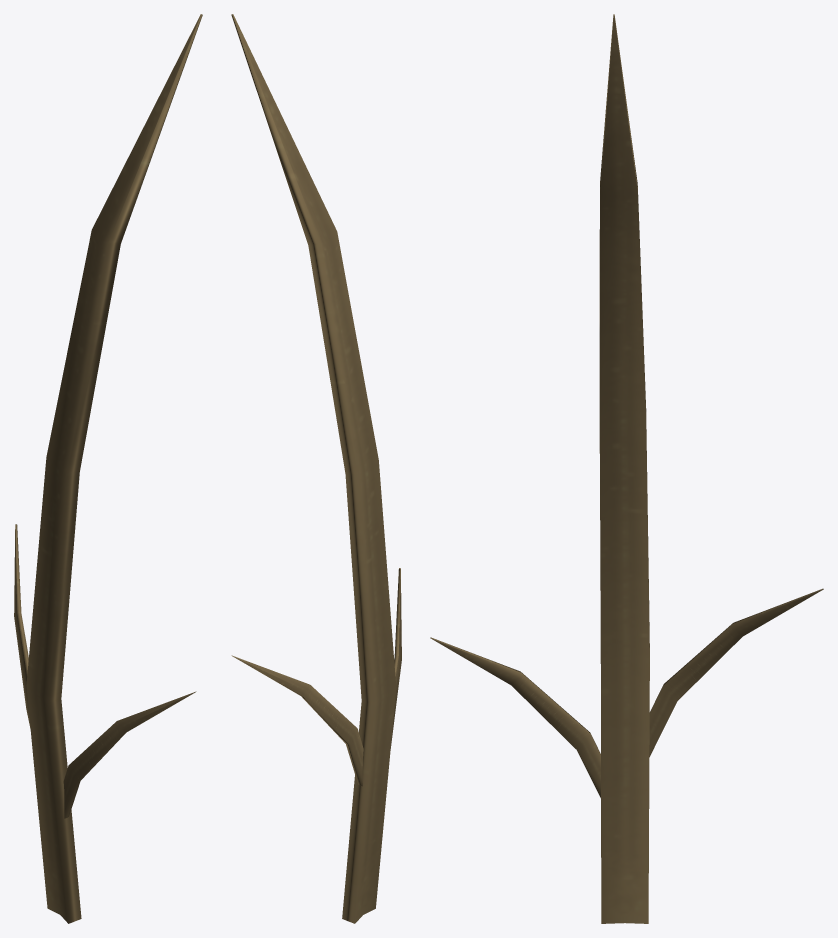
File: SM_Plant_9.fbx
The picture shows the model from 3 angles, left to right: view 1: azimuth 30°, elevation 25°; view 2: azimuth 150°, elevation 25°; view 3: azimuth 270°, elevation 25°; orthographic projection. The views are drawn at different scales.
Parts seen in each view (by area): view 1: SM_Plant_9_LOD0; view 2: SM_Plant_9_LOD0; view 3: SM_Plant_9_LOD0.
Part boxes in pixels (x1,y1,x2,y2): SM_Plant_9_LOD0: (14,14,202,923); SM_Plant_9_LOD0: (231,14,401,923); SM_Plant_9_LOD0: (430,14,823,923).
Bounding box in the file's own units: 7.37 × 13.94 × 38.34.
1 material, 1 textured.
